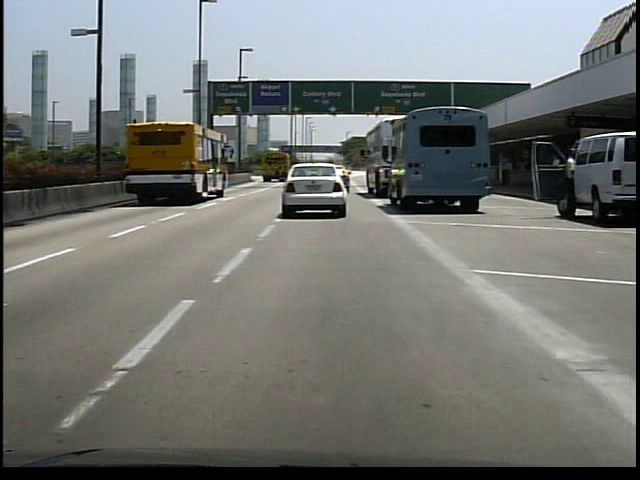person: (560, 139, 578, 224)
